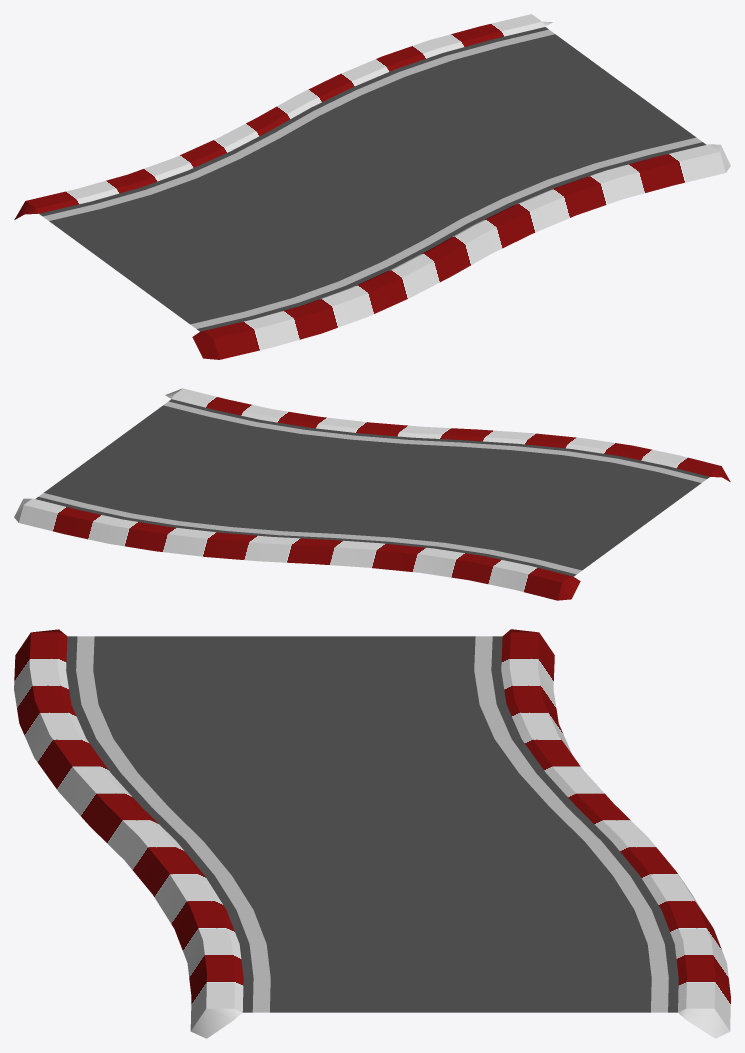
Rendered from Track_Bend_Left.FBX.
3 views of the same model, one above another, from view 1: azimuth 30°, elevation 25°; view 2: azimuth 150°, elevation 25°; view 3: azimuth 270°, elevation 25° (orthographic). The views are drawn at different scales.
Parts seen in each view (by area): view 1: Track_Bend_Left, Track_Bend_Left_Apex_Right, Track_Bend_Left_Apex_Left; view 2: Track_Bend_Left, Track_Bend_Left_Apex_Left, Track_Bend_Left_Apex_Right; view 3: Track_Bend_Left, Track_Bend_Left_Apex_Right, Track_Bend_Left_Apex_Left.
Part boxes in pixels (x1,y1,x2,y2): Track_Bend_Left: (39, 27, 706, 331); Track_Bend_Left_Apex_Right: (192, 144, 730, 359); Track_Bend_Left_Apex_Left: (14, 14, 552, 219); Track_Bend_Left: (35, 399, 709, 576); Track_Bend_Left_Apex_Left: (14, 498, 580, 600); Track_Bend_Left_Apex_Right: (165, 388, 730, 481); Track_Bend_Left: (66, 636, 678, 1012); Track_Bend_Left_Apex_Right: (14, 629, 243, 1038); Track_Bend_Left_Apex_Left: (501, 629, 730, 1038).
Bounding box in the file's own units: 1766 × 48.13 × 1369.
Materials: 1 (1 with a texture image).
